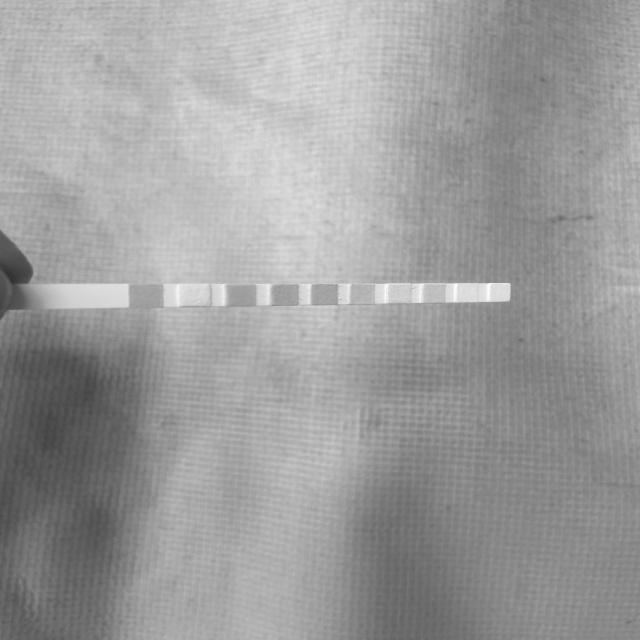Bilirubin: (180, 284, 210, 306)
Blood: (312, 285, 336, 304)
Glucose: (130, 285, 163, 307)
Ketone: (227, 285, 254, 306)
Leukocytes: (491, 284, 510, 301)
Nitrite: (458, 284, 477, 302)
Protein: (388, 284, 411, 303)
SpGravity: (272, 286, 298, 304)
Urobilinogen: (424, 285, 445, 302)
background: (0, 0, 640, 640)
pH: (351, 284, 373, 304)
strip: (16, 283, 511, 310)
